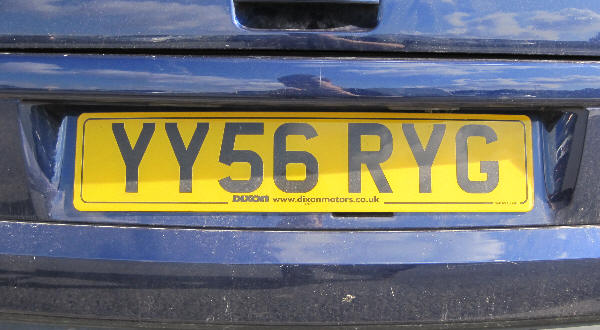license_plate: (77, 114, 531, 208)
